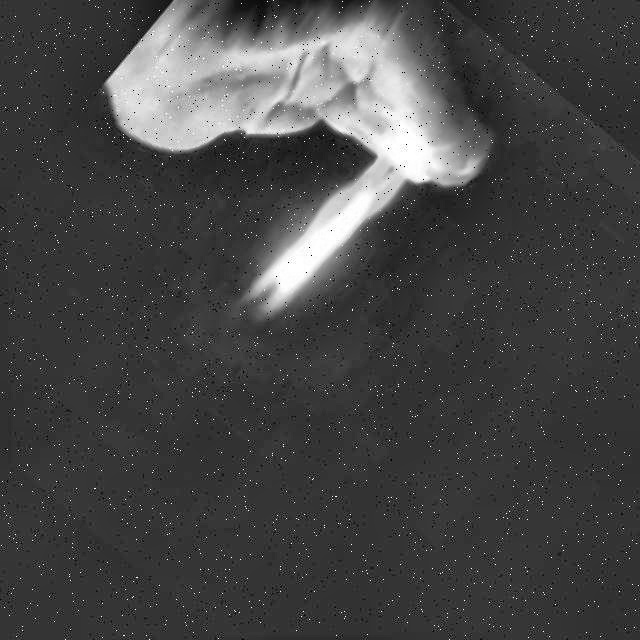Fire: (224, 90, 460, 341)
